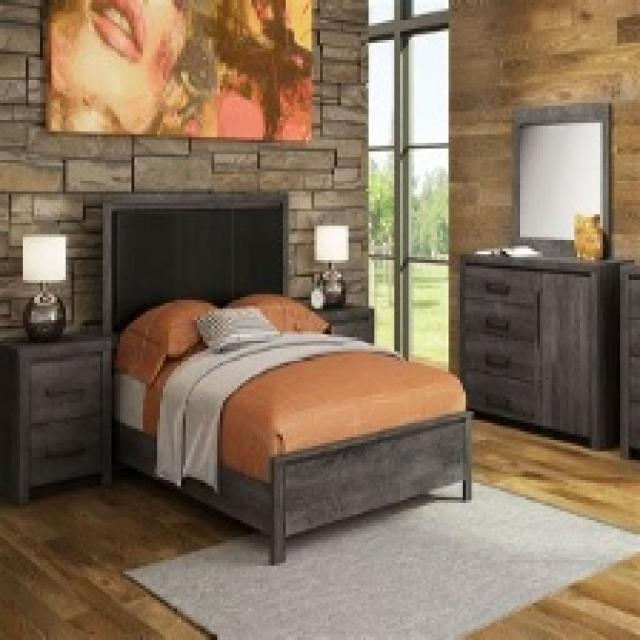Bed: (100, 194, 471, 563)
